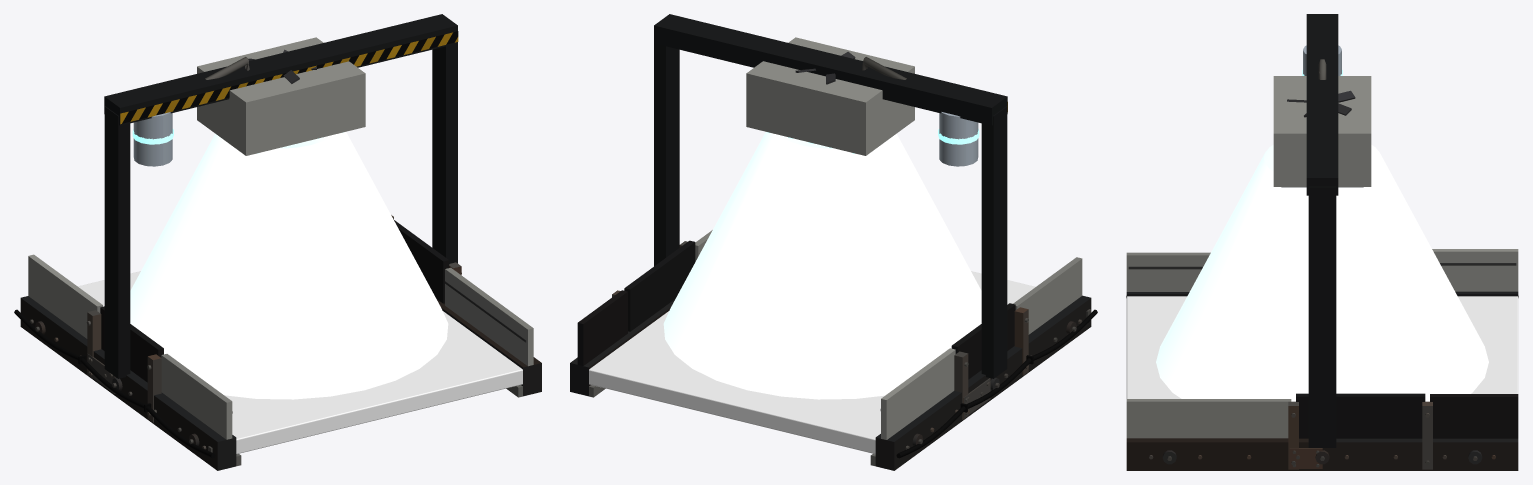
Rendered from concept_cryo_vent.glb.
3 views of the same model, side by side, from view 1: azimuth 30°, elevation 25°; view 2: azimuth 150°, elevation 25°; view 3: azimuth 270°, elevation 25° (orthographic).
Parts seen in each view (by area): view 1: Cone, Frame, Belt; view 2: Cone, Frame, Belt; view 3: Frame, Cone, Belt.
Part boxes in pixels (bbox=[...]): Cone: bbox=[130, 132, 448, 399]; Frame: bbox=[14, 14, 541, 470]; Belt: bbox=[78, 271, 522, 454]; Cone: bbox=[663, 132, 981, 399]; Frame: bbox=[570, 14, 1097, 470]; Belt: bbox=[589, 271, 1035, 454]; Frame: bbox=[1126, 14, 1518, 470]; Cone: bbox=[1156, 145, 1488, 401]; Belt: bbox=[1126, 296, 1518, 398].
Bounding box in the file's own units: 1.99 × 1.74 × 2.
